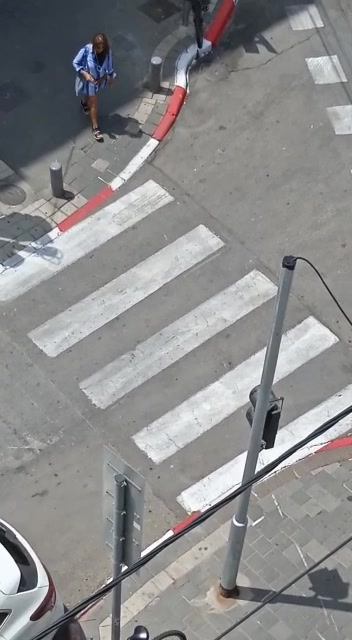crosswalk: (3, 224, 337, 472)
person: (74, 23, 119, 160)
